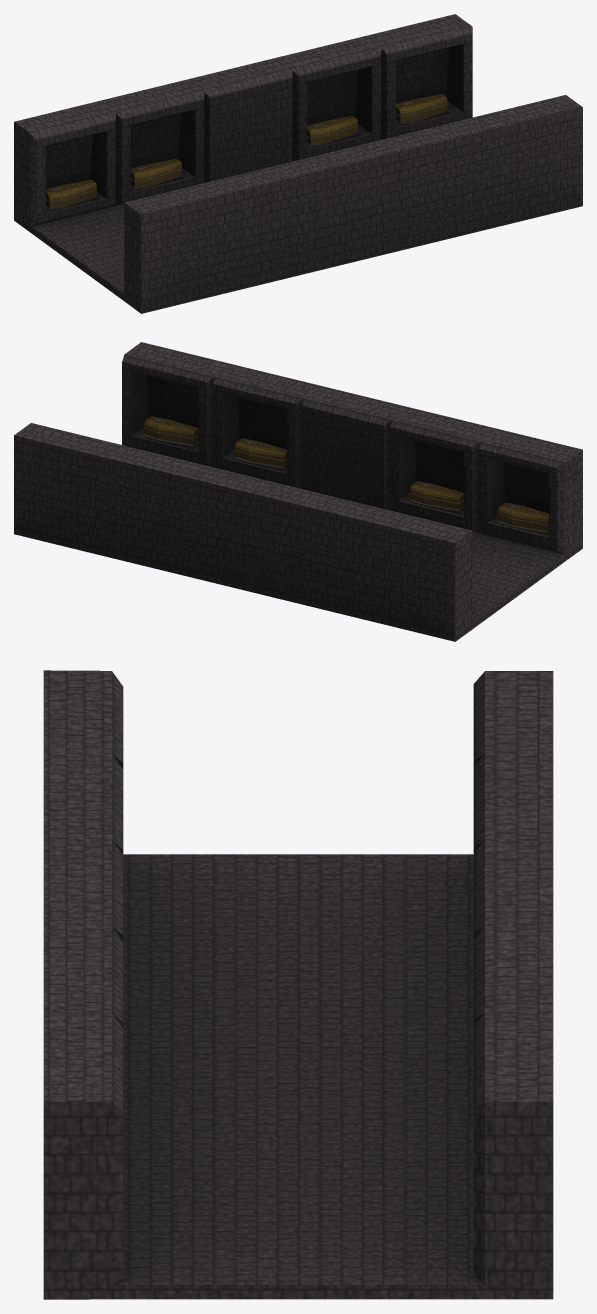
Rendered from Irb_CryptCorridor.obj.
3 views of the same model, one above another, from view 1: azimuth 30°, elevation 25°; view 2: azimuth 150°, elevation 25°; view 3: azimuth 270°, elevation 25° (orthographic). The views are drawn at different scales.
Parts seen in each view (by area): view 1: Crypt, Coffin002, Coffin, Coffin009, Coffin008; view 2: Crypt, Coffin010, Coffin012, Coffin011, Coffin013; view 3: Crypt.
Part boxes in pixels (box(x1,y1,x2,y2)): Crypt: box(14, 14, 582, 313); Coffin002: box(130, 158, 181, 188); Coffin: box(45, 179, 96, 209); Coffin009: box(396, 94, 447, 124); Coffin008: box(307, 115, 357, 146); Crypt: box(14, 342, 582, 641); Coffin010: box(144, 416, 198, 445); Coffin012: box(410, 481, 463, 510); Coffin011: box(234, 438, 286, 468); Coffin013: box(498, 502, 548, 532); Crypt: box(43, 670, 553, 1299).
Size of the model in its own units: 1024 by 219 by 512.
2 materials, 2 textured.
